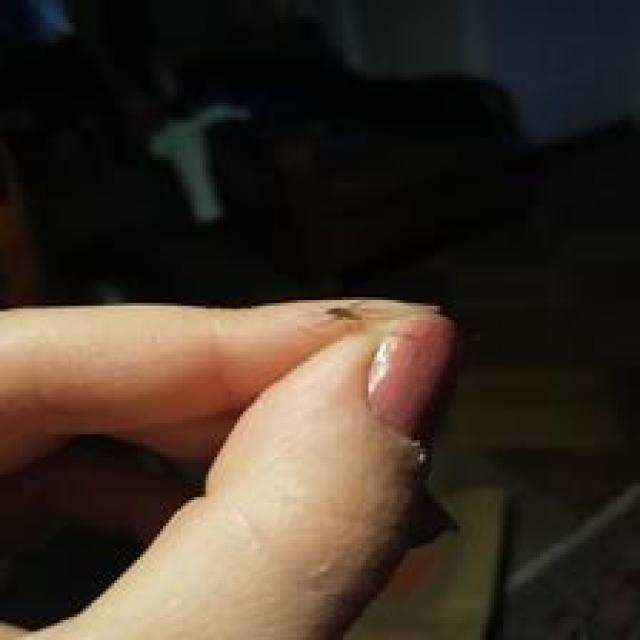Culex: (146, 97, 251, 226)
